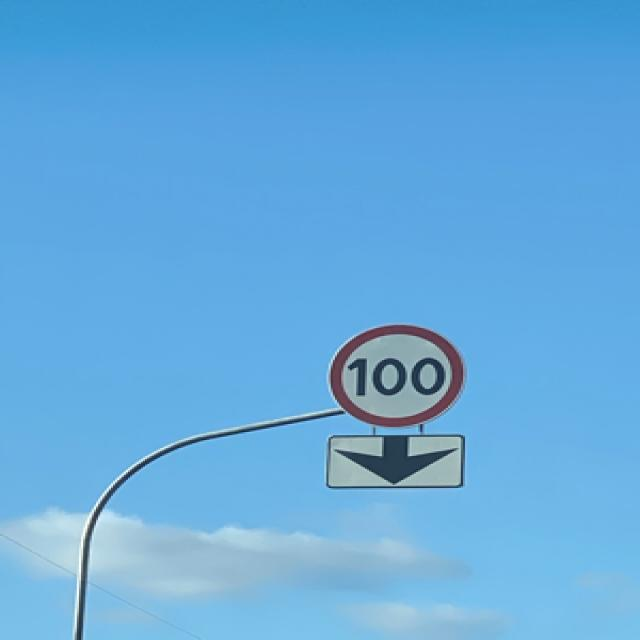speedlimit: (324, 323, 461, 427)
